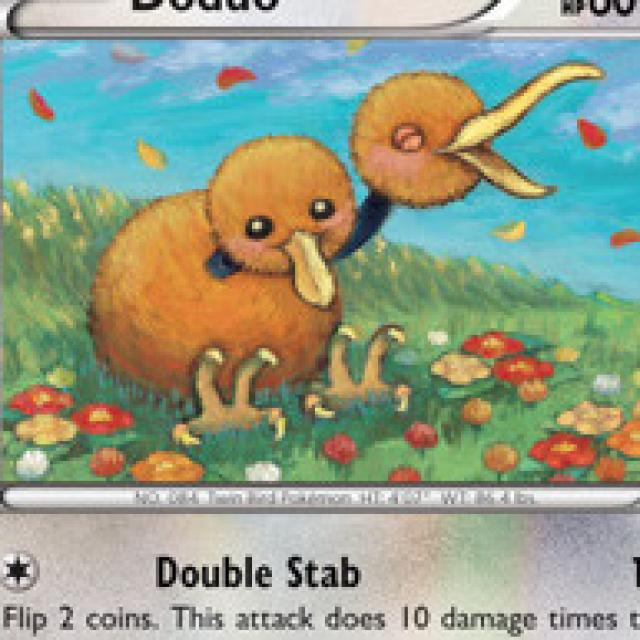Doduo: (86, 65, 556, 409)
